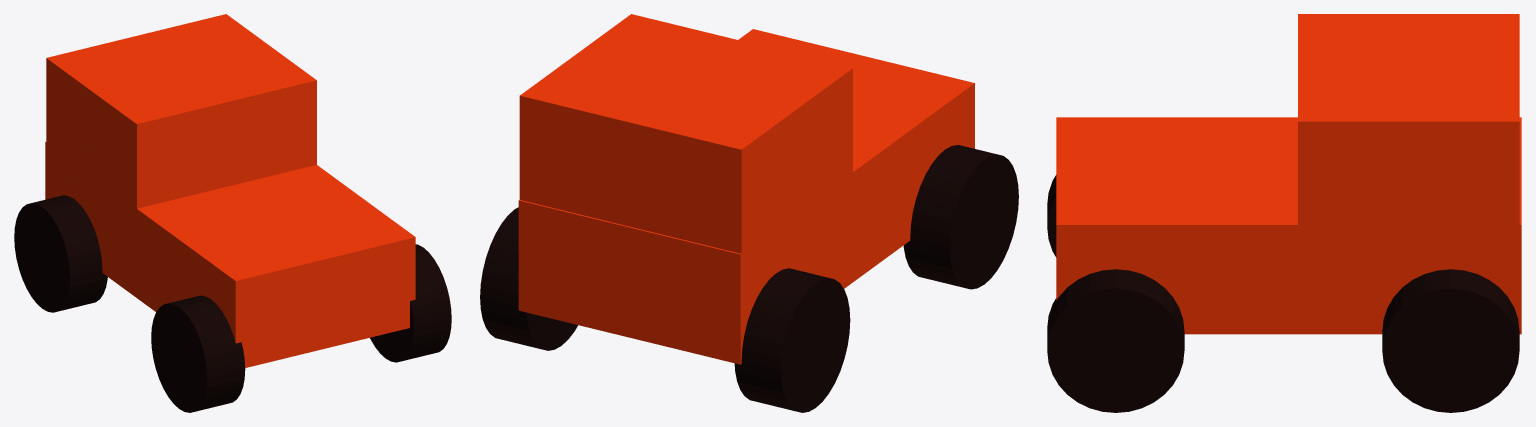
Rendered from car.gltf.
3 views of the same model, side by side, from view 1: azimuth 30°, elevation 25°; view 2: azimuth 150°, elevation 25°; view 3: azimuth 270°, elevation 25° (orthographic). The views are drawn at different scales.
Visible parts, largest first — view 1: Cube, Cube.001, Cylinder, Cylinder.003, Cylinder.001; view 2: Cube.001, Cube, Cylinder.003, Cylinder, Cylinder.002; view 3: Cube, Cube.001, Cylinder.001, Cylinder.002, Cylinder.
Boxes of the visible parts, x1,y1,x2,y2 form: Cube: [45, 142, 415, 367]; Cube.001: [46, 14, 316, 213]; Cylinder: [151, 295, 245, 412]; Cylinder.003: [14, 195, 107, 312]; Cylinder.001: [370, 244, 451, 362]; Cube.001: [519, 14, 852, 259]; Cube: [518, 29, 974, 364]; Cylinder.003: [734, 268, 850, 412]; Cylinder: [903, 145, 1018, 289]; Cylinder.002: [480, 207, 577, 350]; Cube: [1056, 117, 1521, 334]; Cube.001: [1298, 14, 1519, 230]; Cylinder.001: [1047, 269, 1184, 412]; Cylinder.002: [1382, 269, 1519, 412]; Cylinder: [1047, 175, 1056, 257].
Bounding box in the file's own units: 1.48 × 1.29 × 2.04.
Materials: 2 (1 with a texture image).
